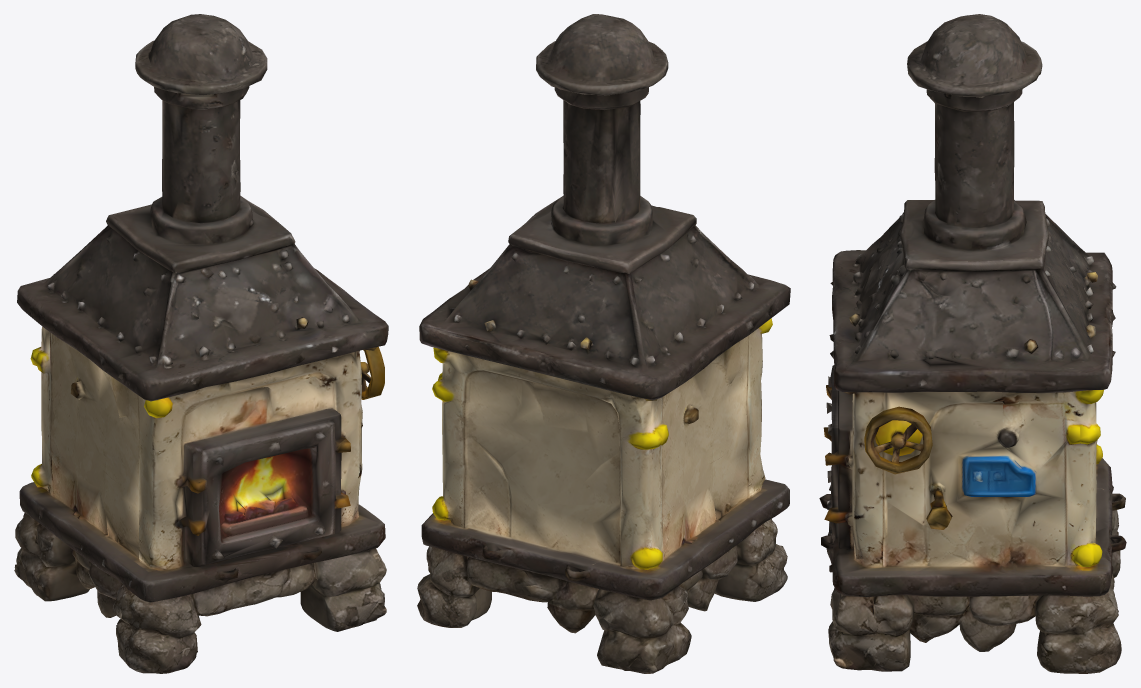
The model's file is ocak.glb.
The picture shows the model from 3 angles, left to right: view 1: azimuth 30°, elevation 25°; view 2: azimuth 150°, elevation 25°; view 3: azimuth 270°, elevation 25°; orthographic projection. The views are drawn at different scales.
Visible parts, largest first — view 1: tripo_node_e84b195e-e7ce-4a38-8edb-f8266ee84b46; view 2: tripo_node_e84b195e-e7ce-4a38-8edb-f8266ee84b46; view 3: tripo_node_e84b195e-e7ce-4a38-8edb-f8266ee84b46.
Part boxes in pixels (x1,y1,x2,y2): tripo_node_e84b195e-e7ce-4a38-8edb-f8266ee84b46: [14, 14, 388, 673]; tripo_node_e84b195e-e7ce-4a38-8edb-f8266ee84b46: [417, 14, 790, 673]; tripo_node_e84b195e-e7ce-4a38-8edb-f8266ee84b46: [819, 14, 1126, 673].
Bounding box in the file's own units: 0.9625 × 2 × 0.9421.
1 material, 1 textured.
